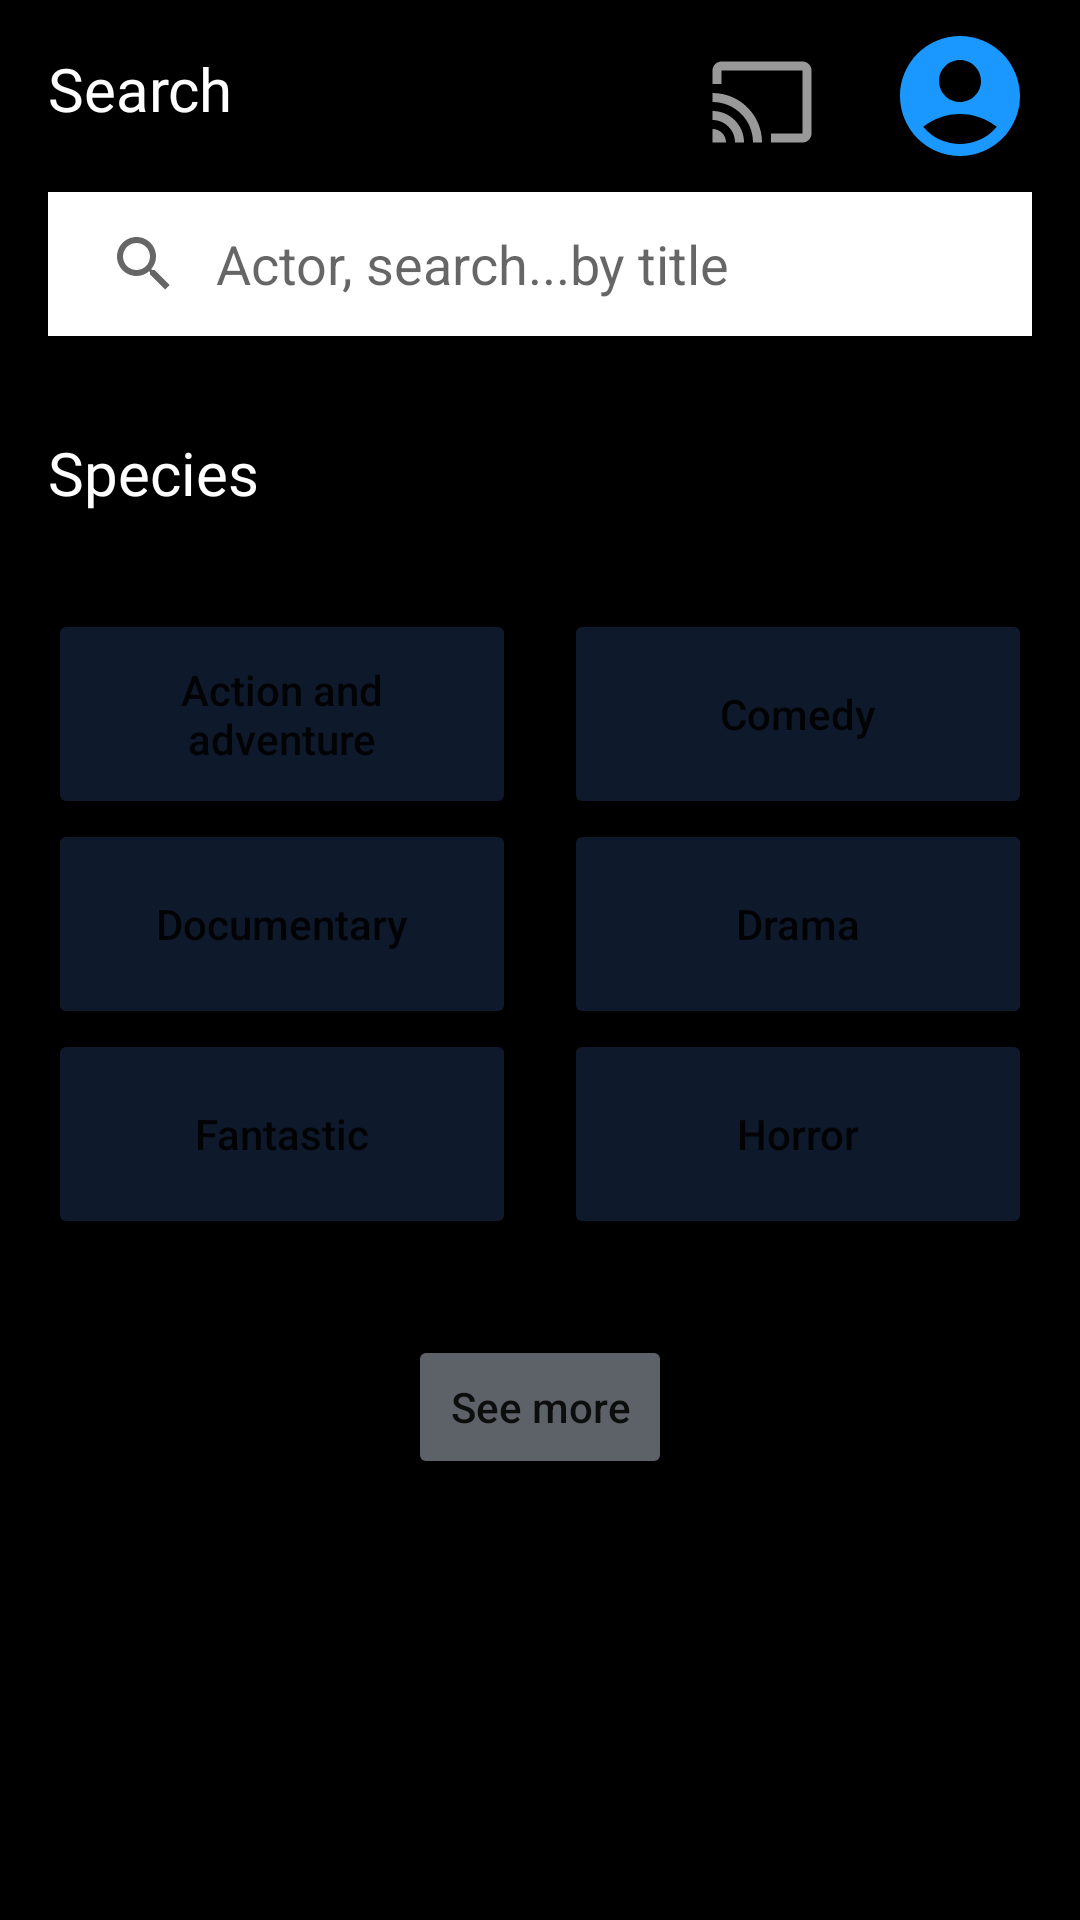

Named icons in this screenshot (1080w x 1920h) and their centers, [x,y]:
account circle: [960,96]
cast: [762,102]
